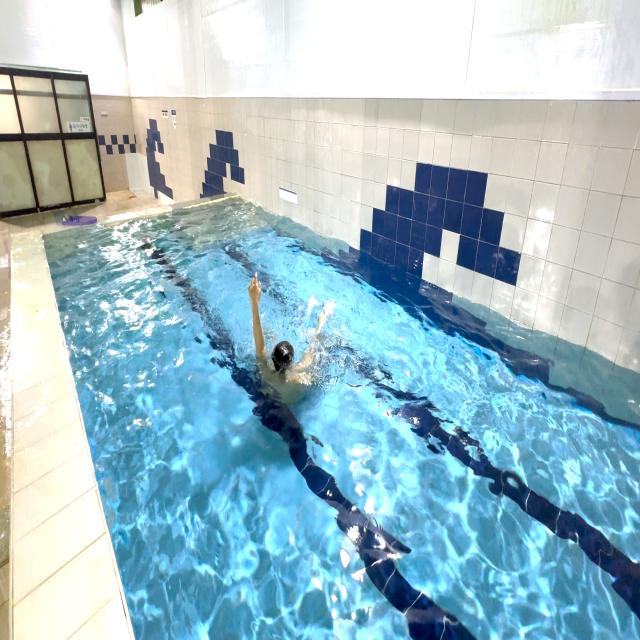Drowning: (233, 251, 339, 428)
